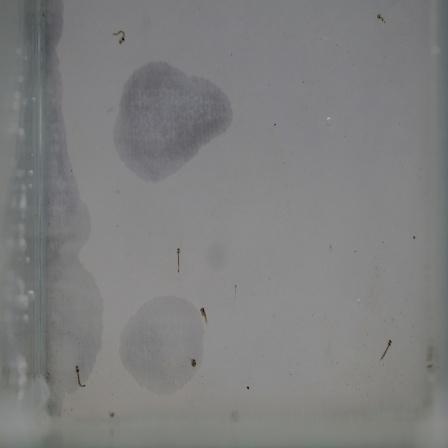Jentik-Nyamuk: (70, 363, 93, 393), (377, 333, 396, 368), (108, 26, 130, 50), (172, 245, 187, 277), (372, 10, 393, 30), (196, 306, 212, 329)
